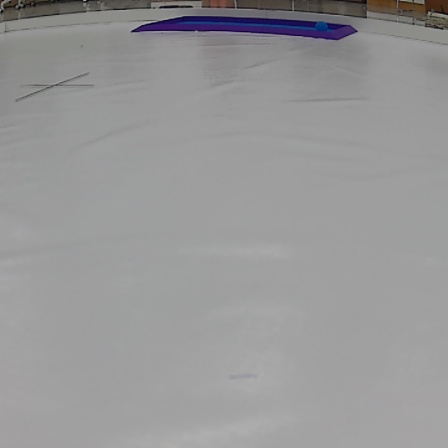blue: (313, 21, 330, 32)
blue_aim: (137, 16, 361, 42)
